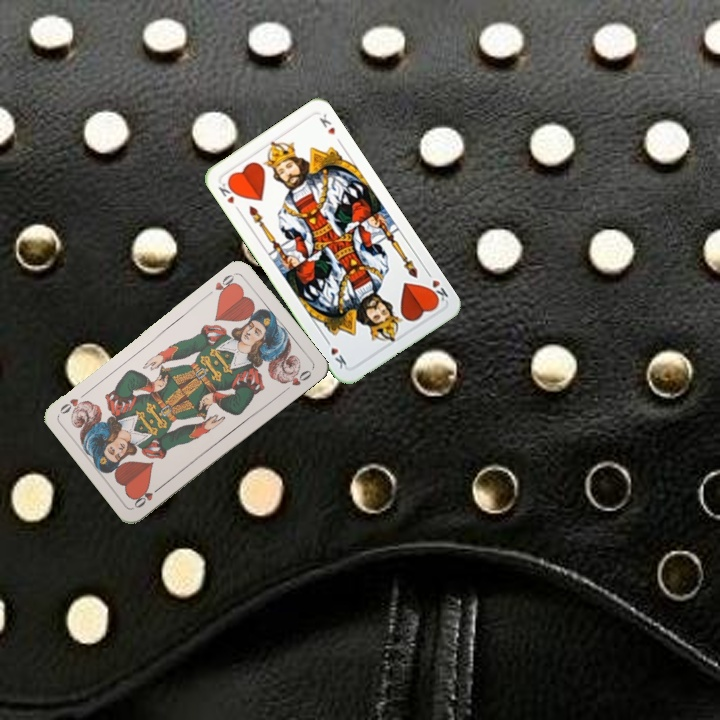HK: (214, 175, 243, 215), (422, 267, 451, 307)
HO: (130, 481, 165, 511), (211, 269, 239, 300)
